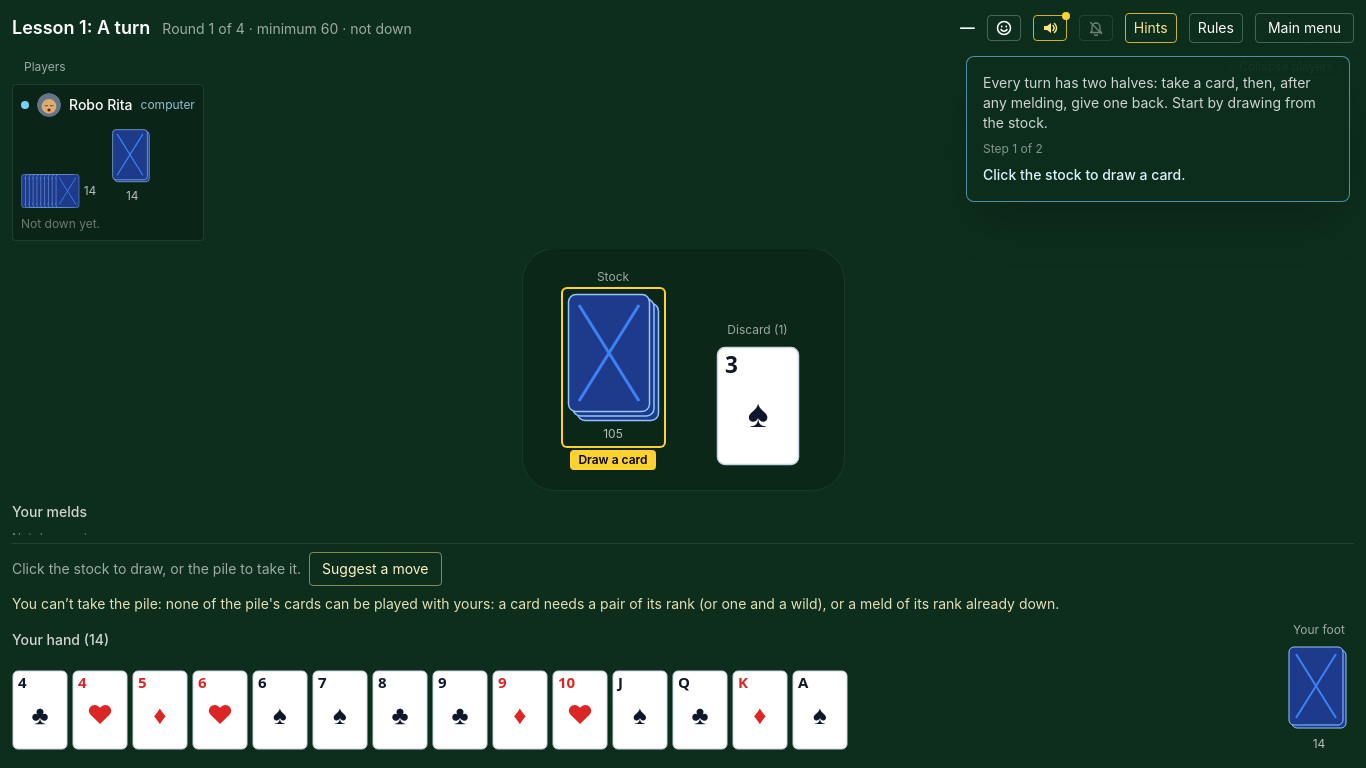
the lessons › teach a turn at the real table: the coach asks, the learner plays, the computer answers
expect the element named "Coach" shows "Every turn has two halves": met, box [983, 74, 1316, 131]
expect the element named "Coach" shows "Click the stock to draw a card.": met, box [983, 166, 1185, 183]
Click the button named "draw a card".
click(613, 368)  # box [562, 289, 664, 446]
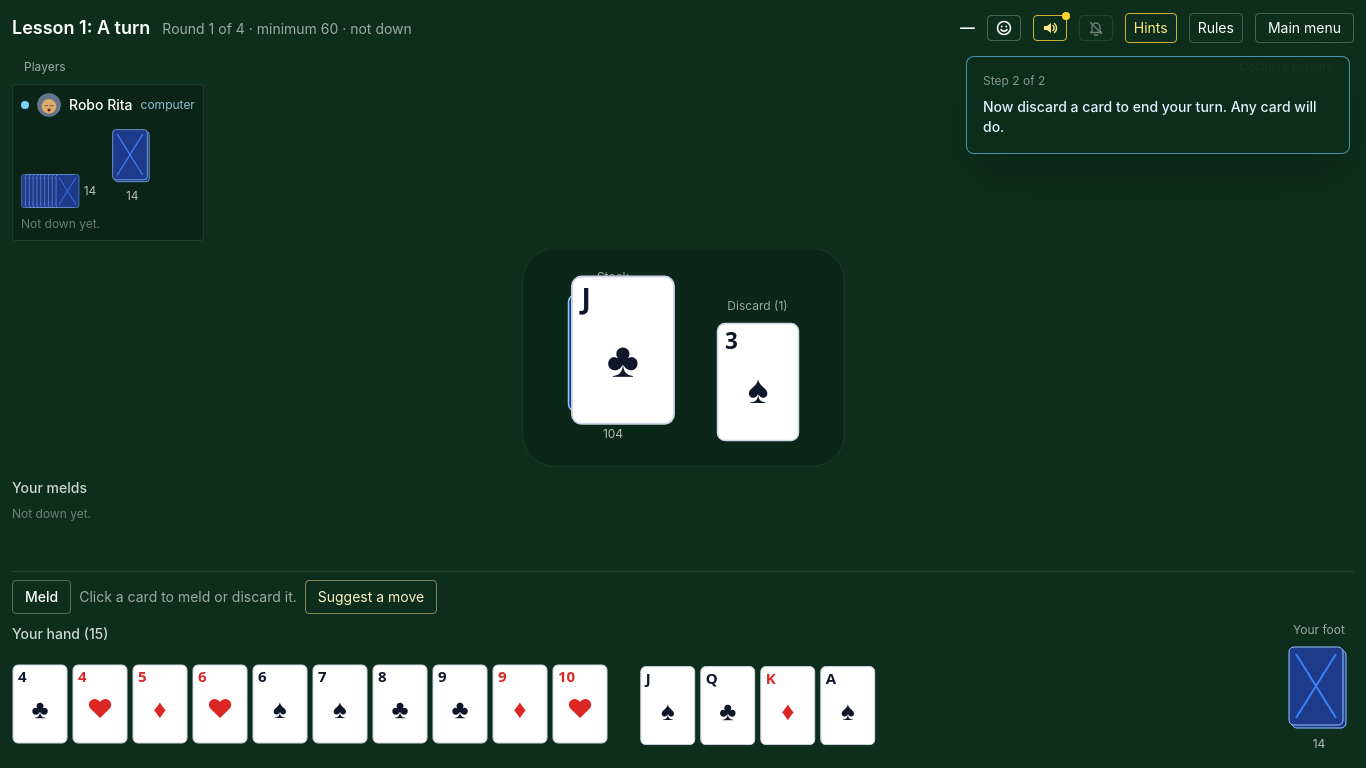
expect the element named "Coach" shows "Step 2 of 2": met, box [966, 56, 1350, 154]
Note: Any card will do: pick the first and discard it.
Click the button named "Four of clubs".
click(40, 704)  # box [12, 664, 68, 744]
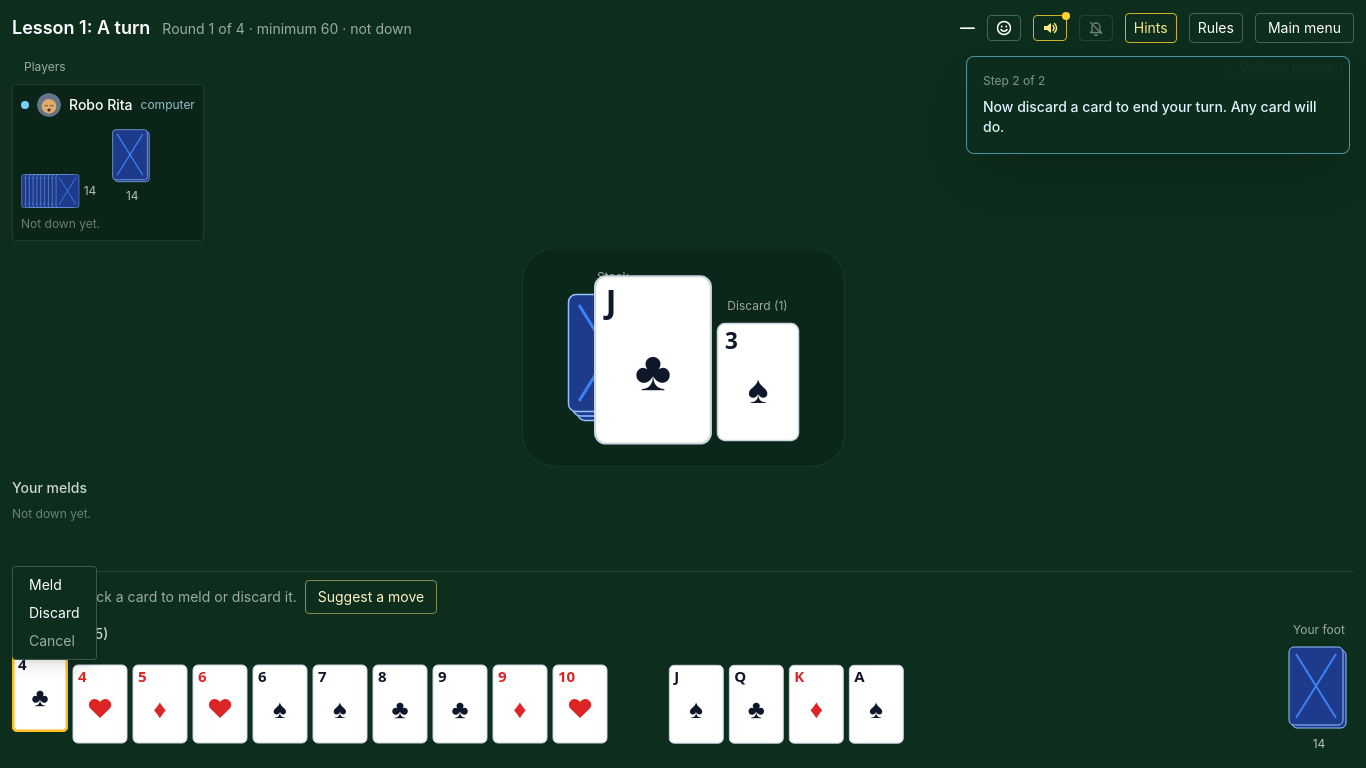
Click the menu item "Discard".
click(54, 613)  # box [17, 599, 92, 627]
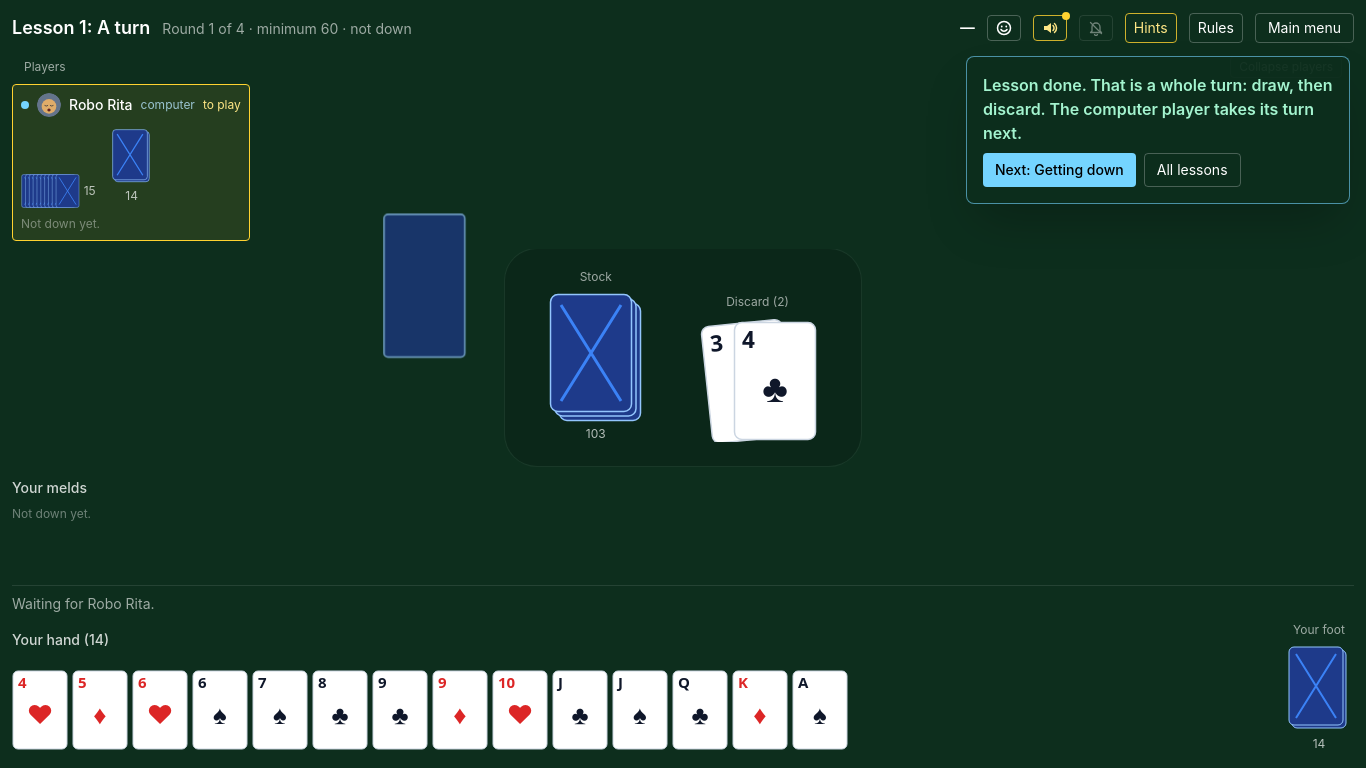
expect the element named "Coach" shows "Lesson done.": met, box [983, 75, 1090, 95]
expect the button "Next: Getting down" is shown: met, box [983, 153, 1136, 187]
